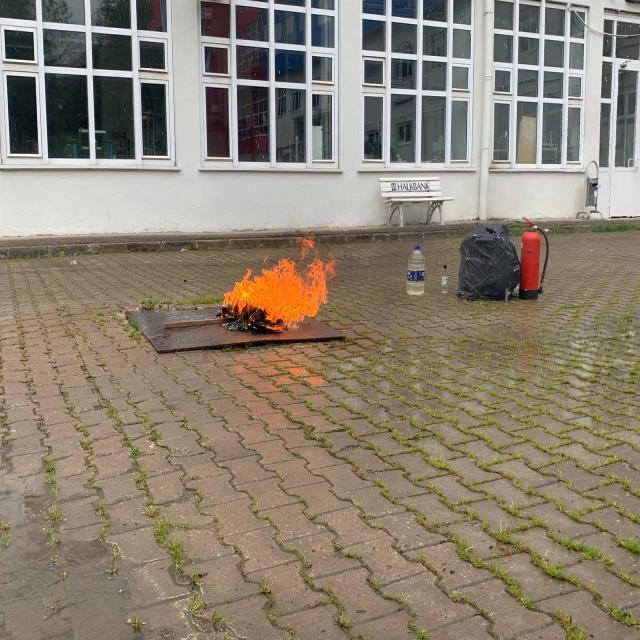fire: (219, 239, 342, 330)
